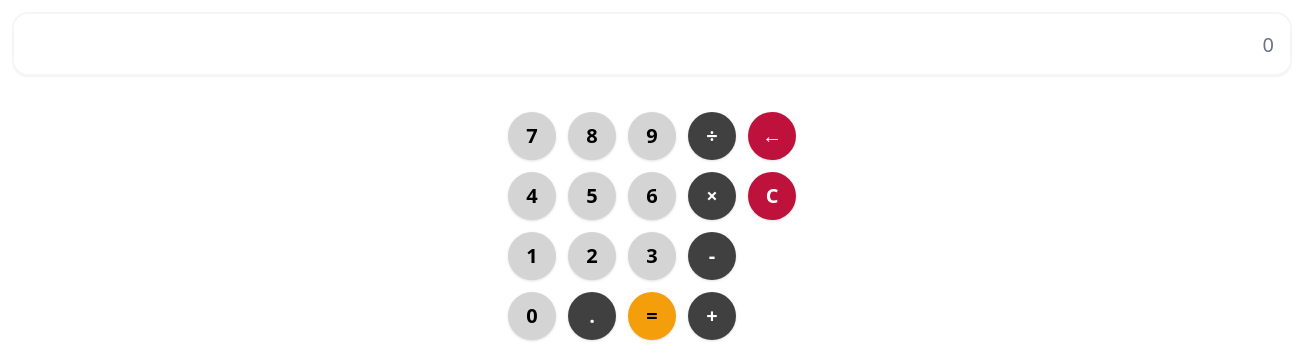
Calculator › replaces leading zeroes when entering digits
Click the button "0": [532, 316] box [508,292,556,340]
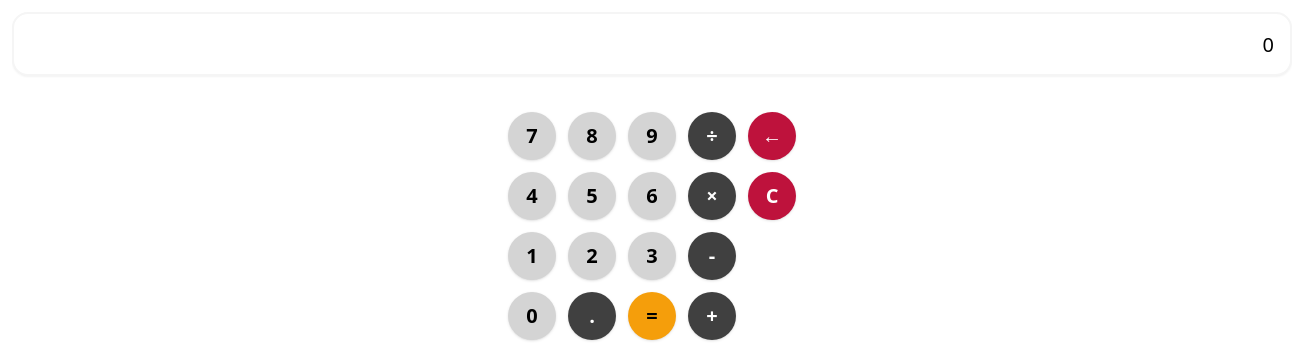
Click the button "1": [532, 256] box [508,232,556,280]
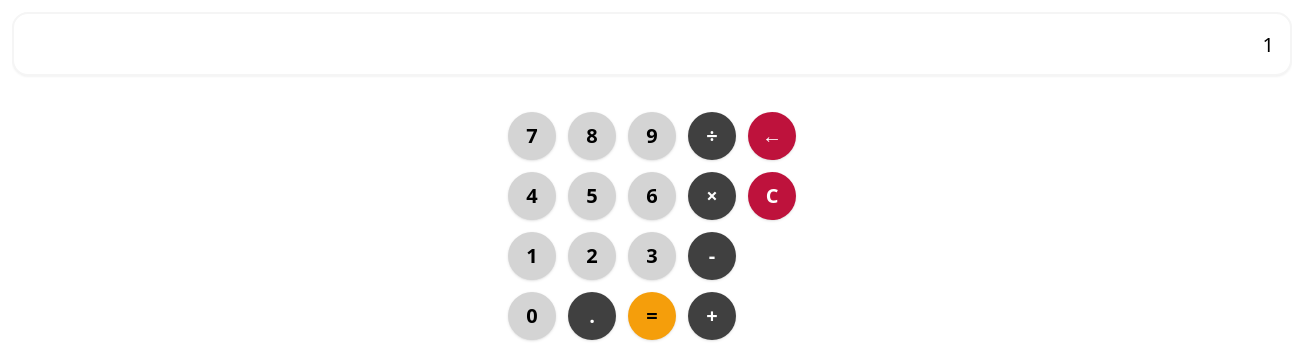
Expected: the field with test id "calculator-screen" holds "1", [12,12,1292,76]
Click the button "-": [712, 256] box [688,232,736,280]
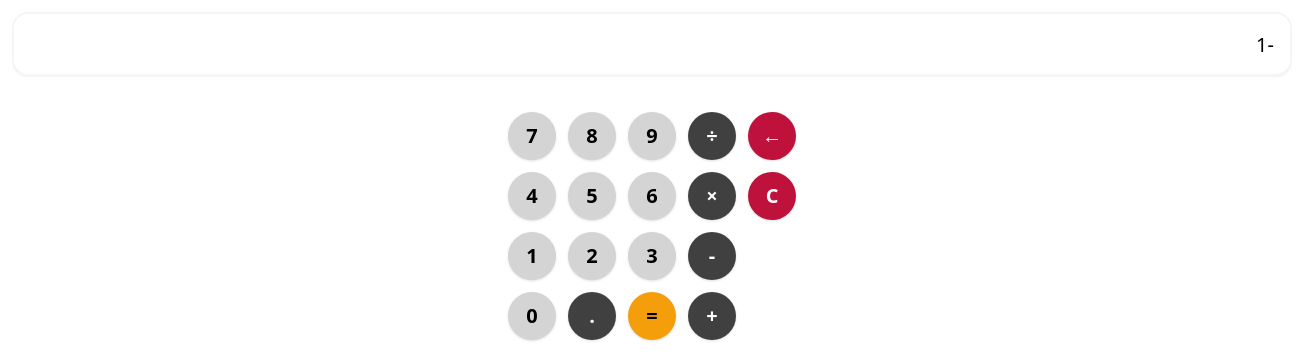
Click the button "0": [532, 316] box [508,292,556,340]
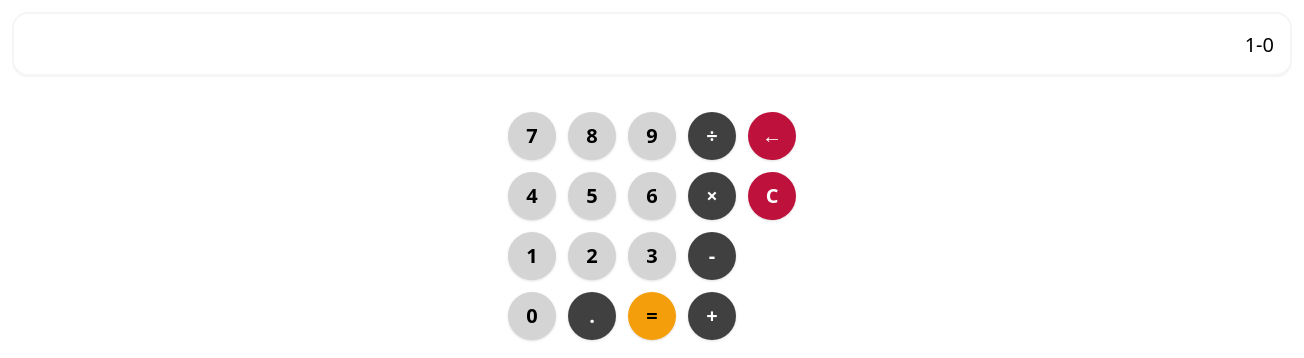
Click the button "2": [592, 256] box [568,232,616,280]
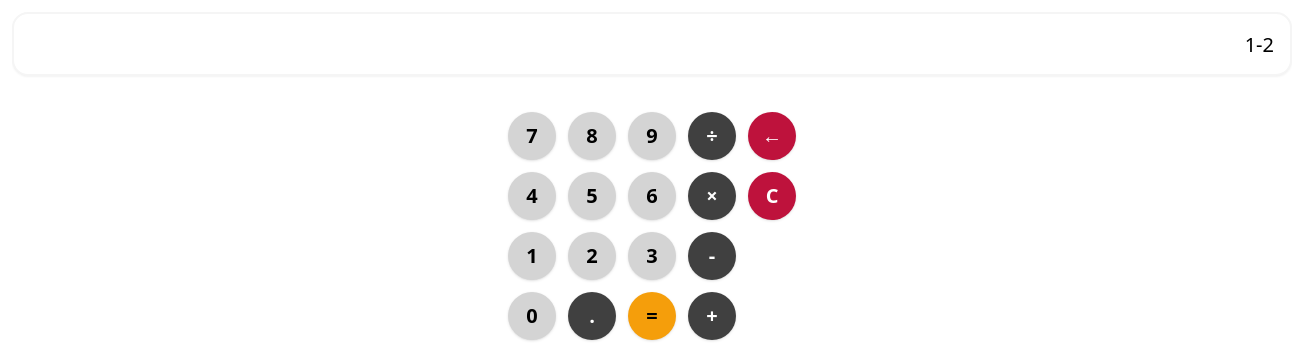
Expected: the field with test id "calculator-screen" holds "1-2", [12,12,1292,76]
